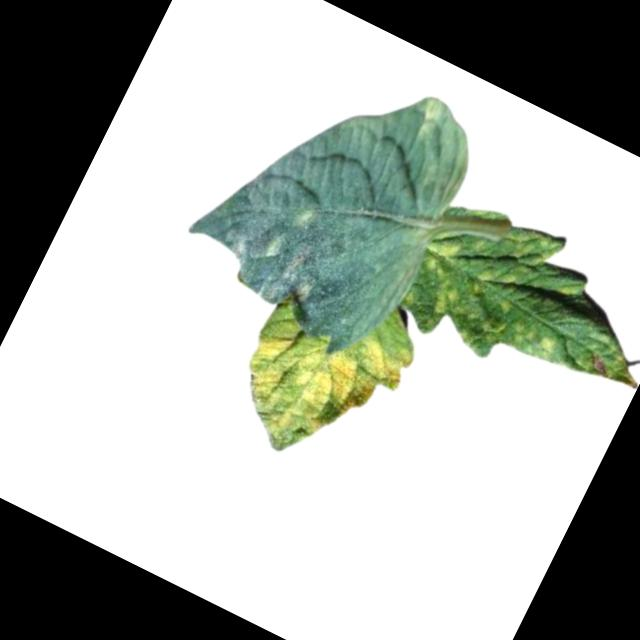Leaf_Mold: (387, 184, 640, 430), (214, 284, 417, 488), (208, 179, 345, 315), (376, 91, 492, 222)
